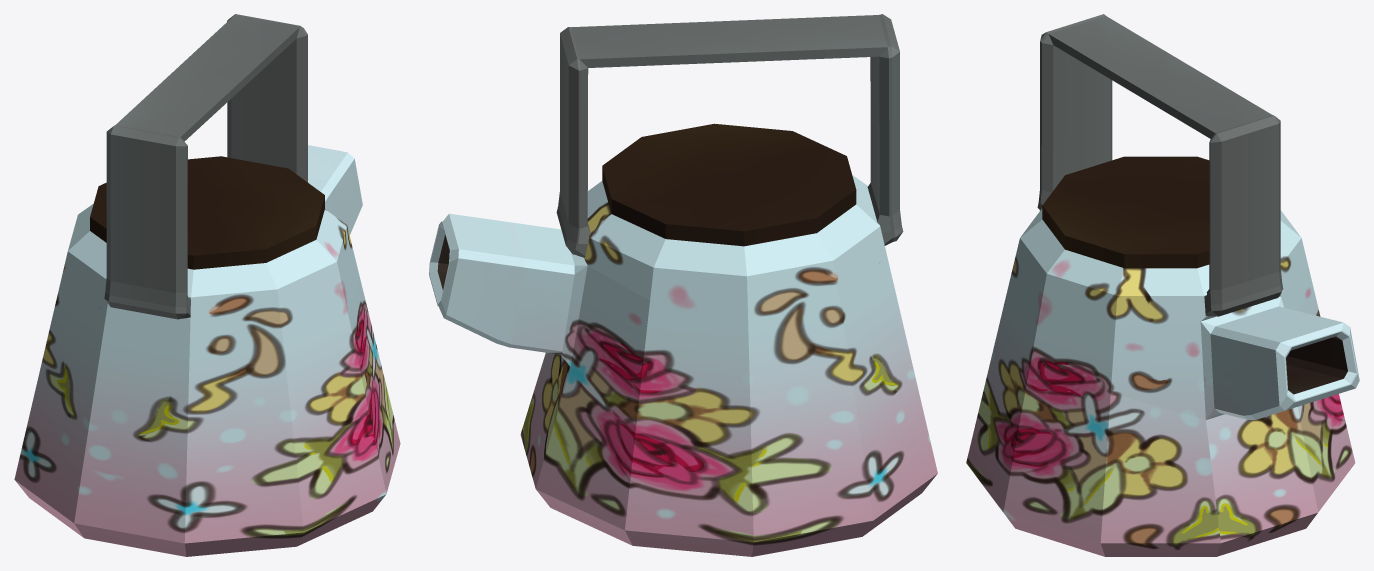
Rendered from TeaKettle_01.fbx.
3 renders of one model, left to right at view 1: azimuth 30°, elevation 25°; view 2: azimuth 150°, elevation 25°; view 3: azimuth 270°, elevation 25°, orthographic. The views are drawn at different scales.
Parts seen in each view (by area): view 1: TeaPot; view 2: TeaPot; view 3: TeaPot.
Boxes of the visible parts, <box> form: TeaPot: <box>14,14,400,556</box>; TeaPot: <box>429,14,937,556</box>; TeaPot: <box>966,14,1359,556</box>.
Size of the model in its own units: 30.53 by 31.36 by 27.36.
1 material, 1 textured.
